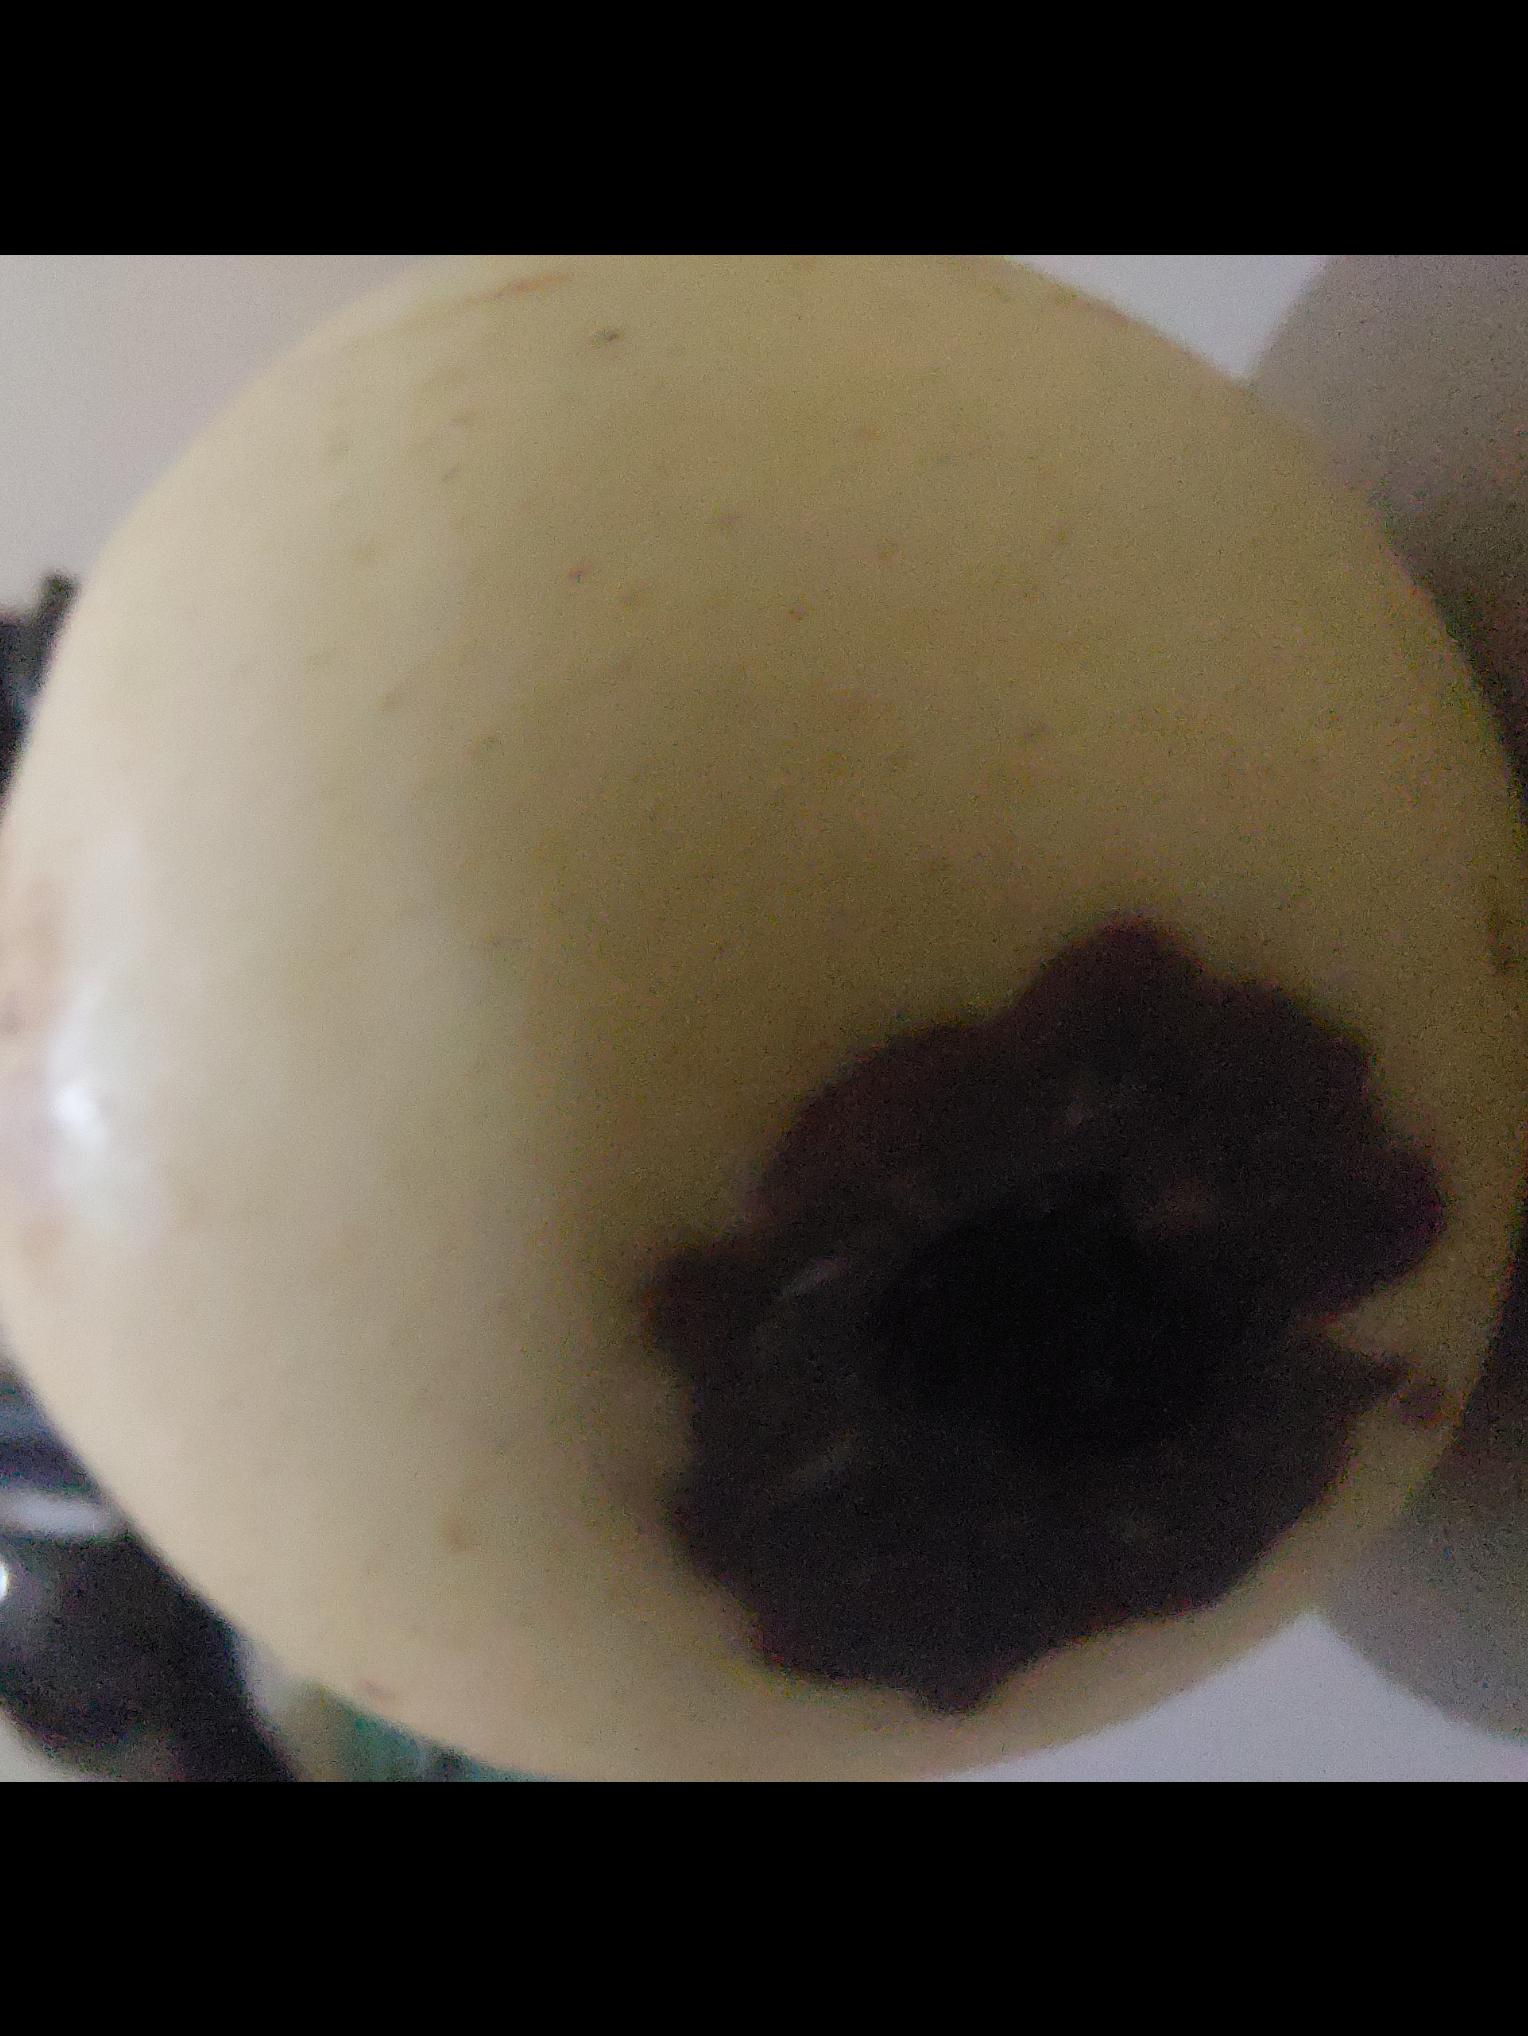Bad Pear: (0, 268, 1528, 1783)
